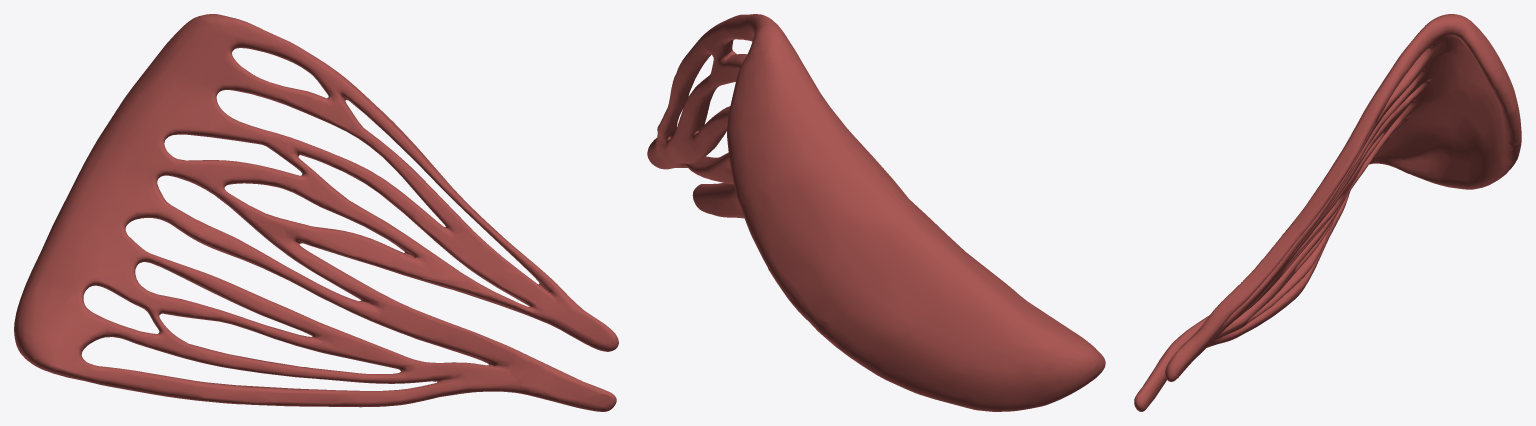
File: FMA7235.glb
The picture shows the model from 3 angles, left to right: view 1: azimuth 30°, elevation 25°; view 2: azimuth 150°, elevation 25°; view 3: azimuth 270°, elevation 25°; orthographic projection. The views are drawn at different scales.
Visible parts, largest first — view 1: FMA7235; view 2: FMA7235; view 3: FMA7235.
Boxes of the visible parts, left/top/right/bottom form: FMA7235: left=14, top=14, right=618, bottom=411; FMA7235: left=647, top=14, right=1105, bottom=411; FMA7235: left=1134, top=14, right=1521, bottom=411.
Bounding box in the file's own units: 0.0494 × 0.0321 × 0.0379.
